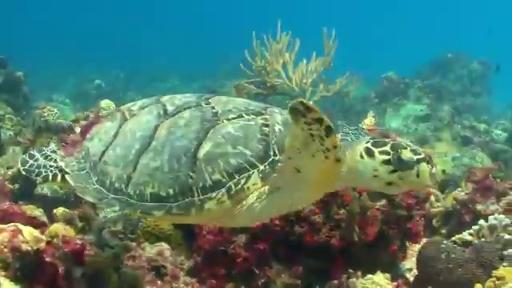Fish: (20, 94, 432, 227)
